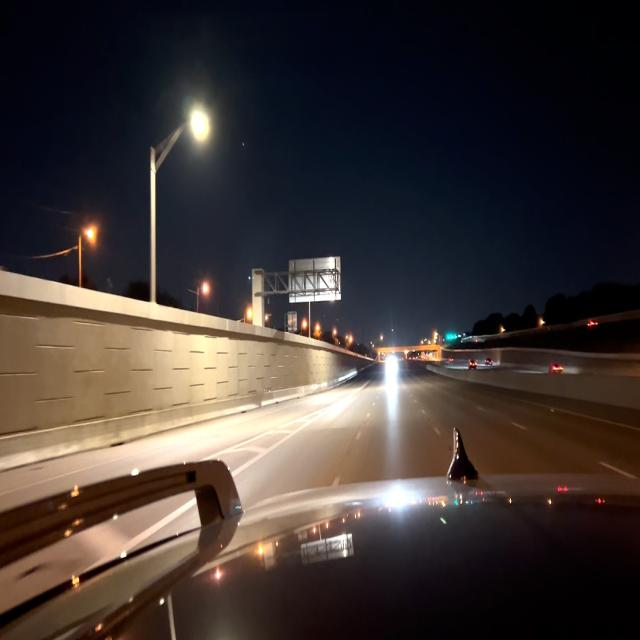back-of-sign: (288, 259, 340, 300)
